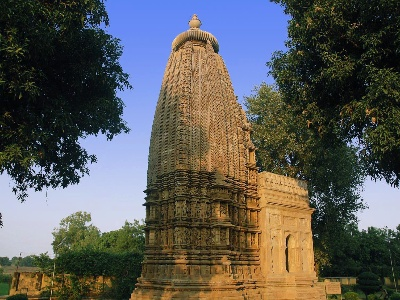amalaka: (154, 23, 232, 56)
gopuram: (151, 46, 262, 195)
